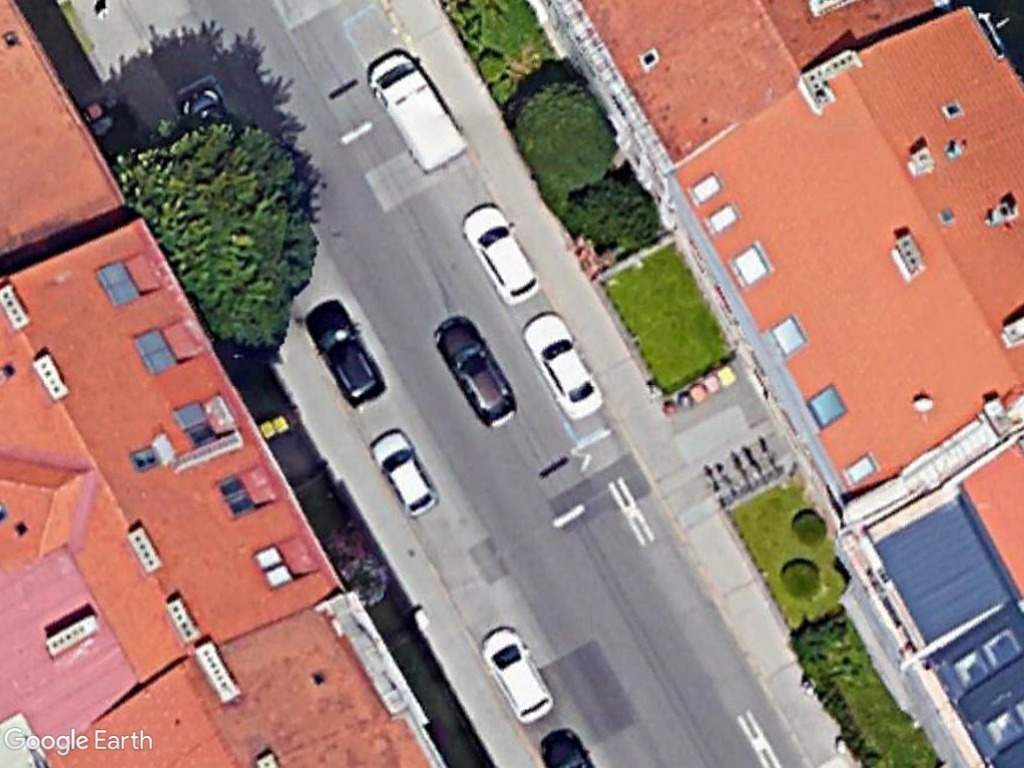car: (426, 315, 524, 435), (517, 305, 612, 420), (305, 300, 390, 414), (458, 201, 544, 310), (479, 621, 559, 730), (363, 424, 446, 521)
van: (354, 48, 473, 178)
